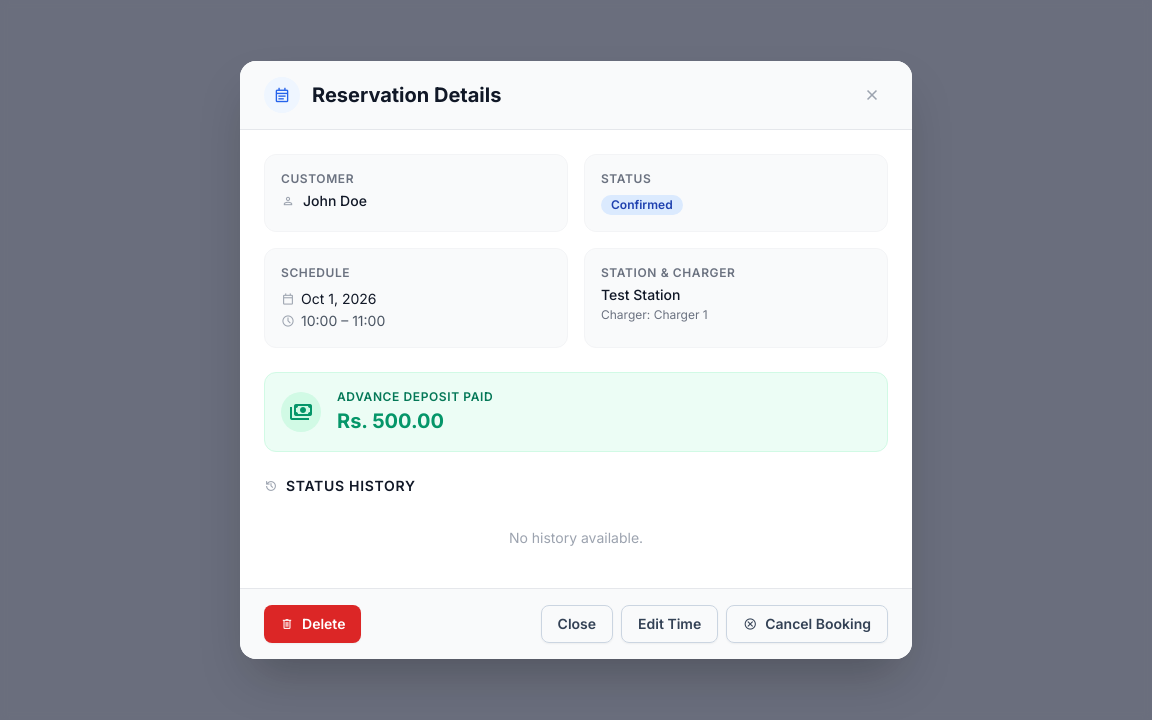
Test: ReservationDetailsModal › warns a driver about the late fee and shows the advance separately
The width and height of the screenshot is (1152, 720).
Click the button "Cancel Booking" at (807, 624), box [726, 605, 888, 643]
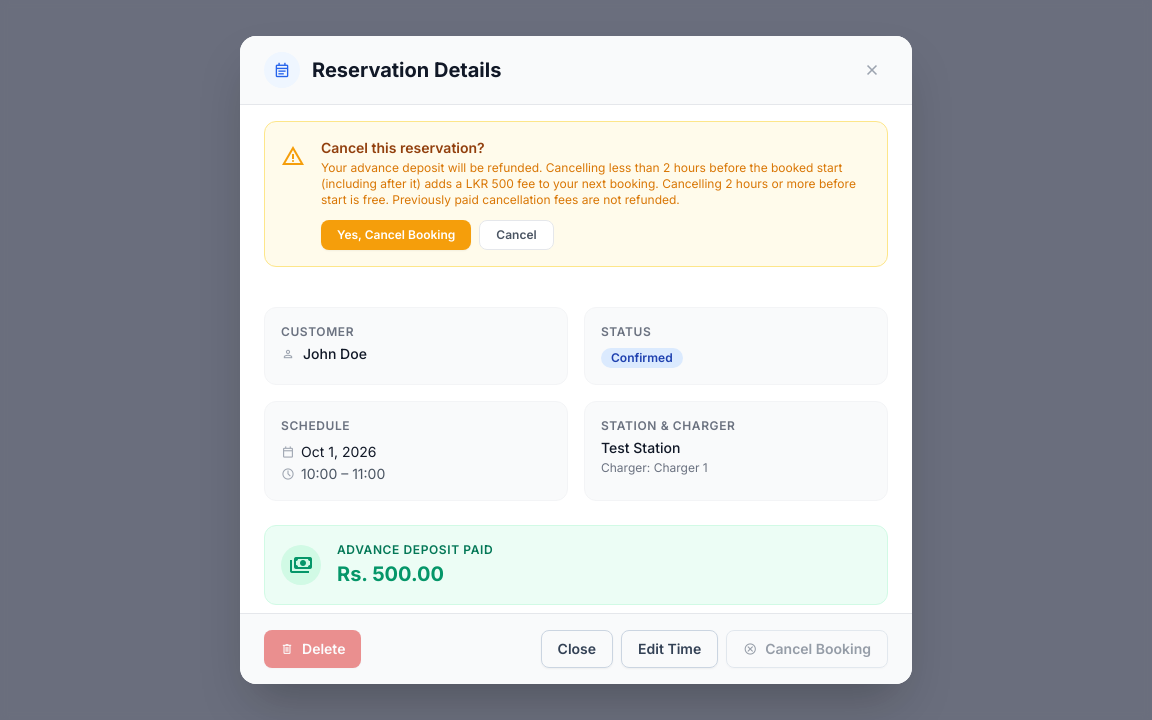
Expected: the heading "Advance Deposit Paid" is shown, [337, 542, 493, 558]
Expected: the text "Cancelling 2 hours or more before start is free" is shown, [321, 160, 856, 207]
